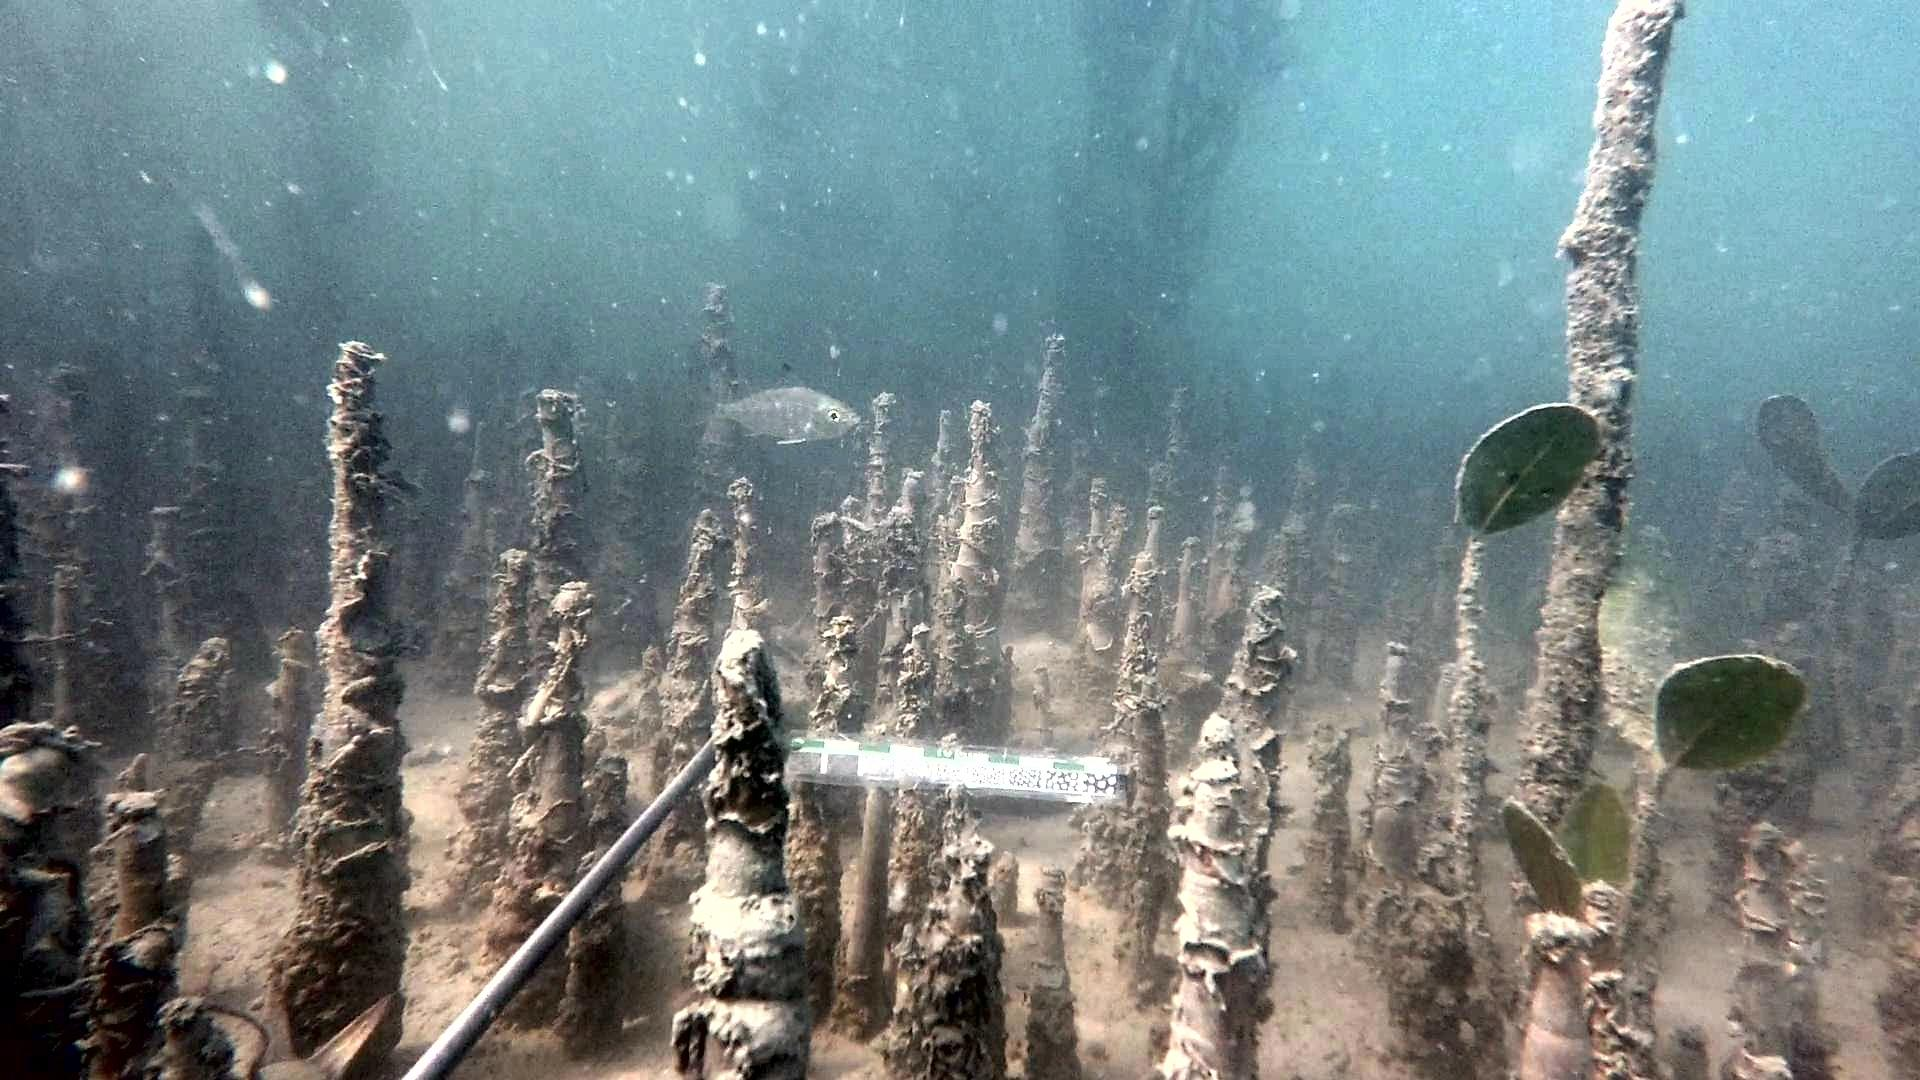gerres: (678, 361, 862, 446)
